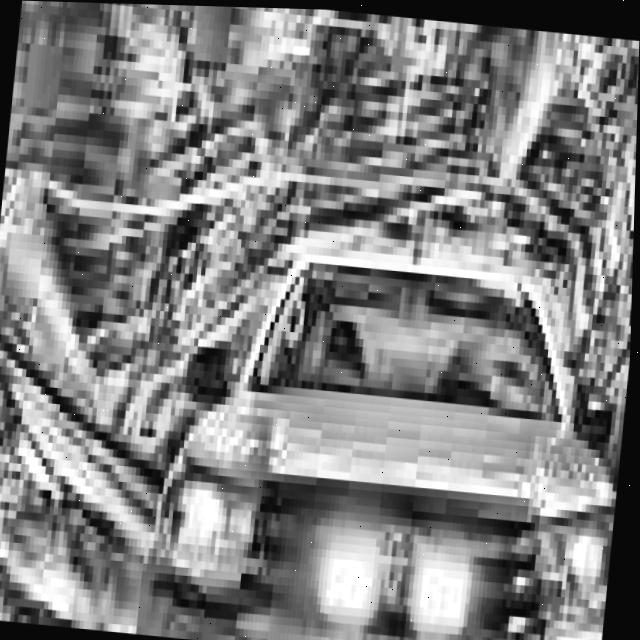light_vehicle: (94, 140, 637, 640)
